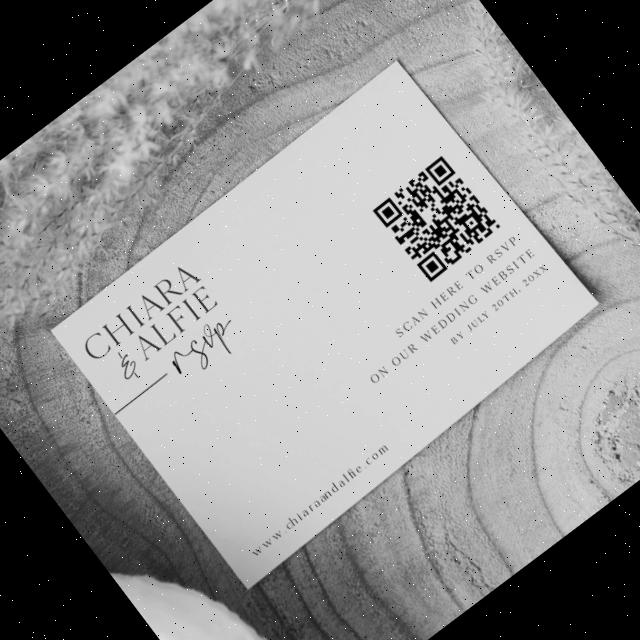QR-codes: (366, 147, 508, 289)
